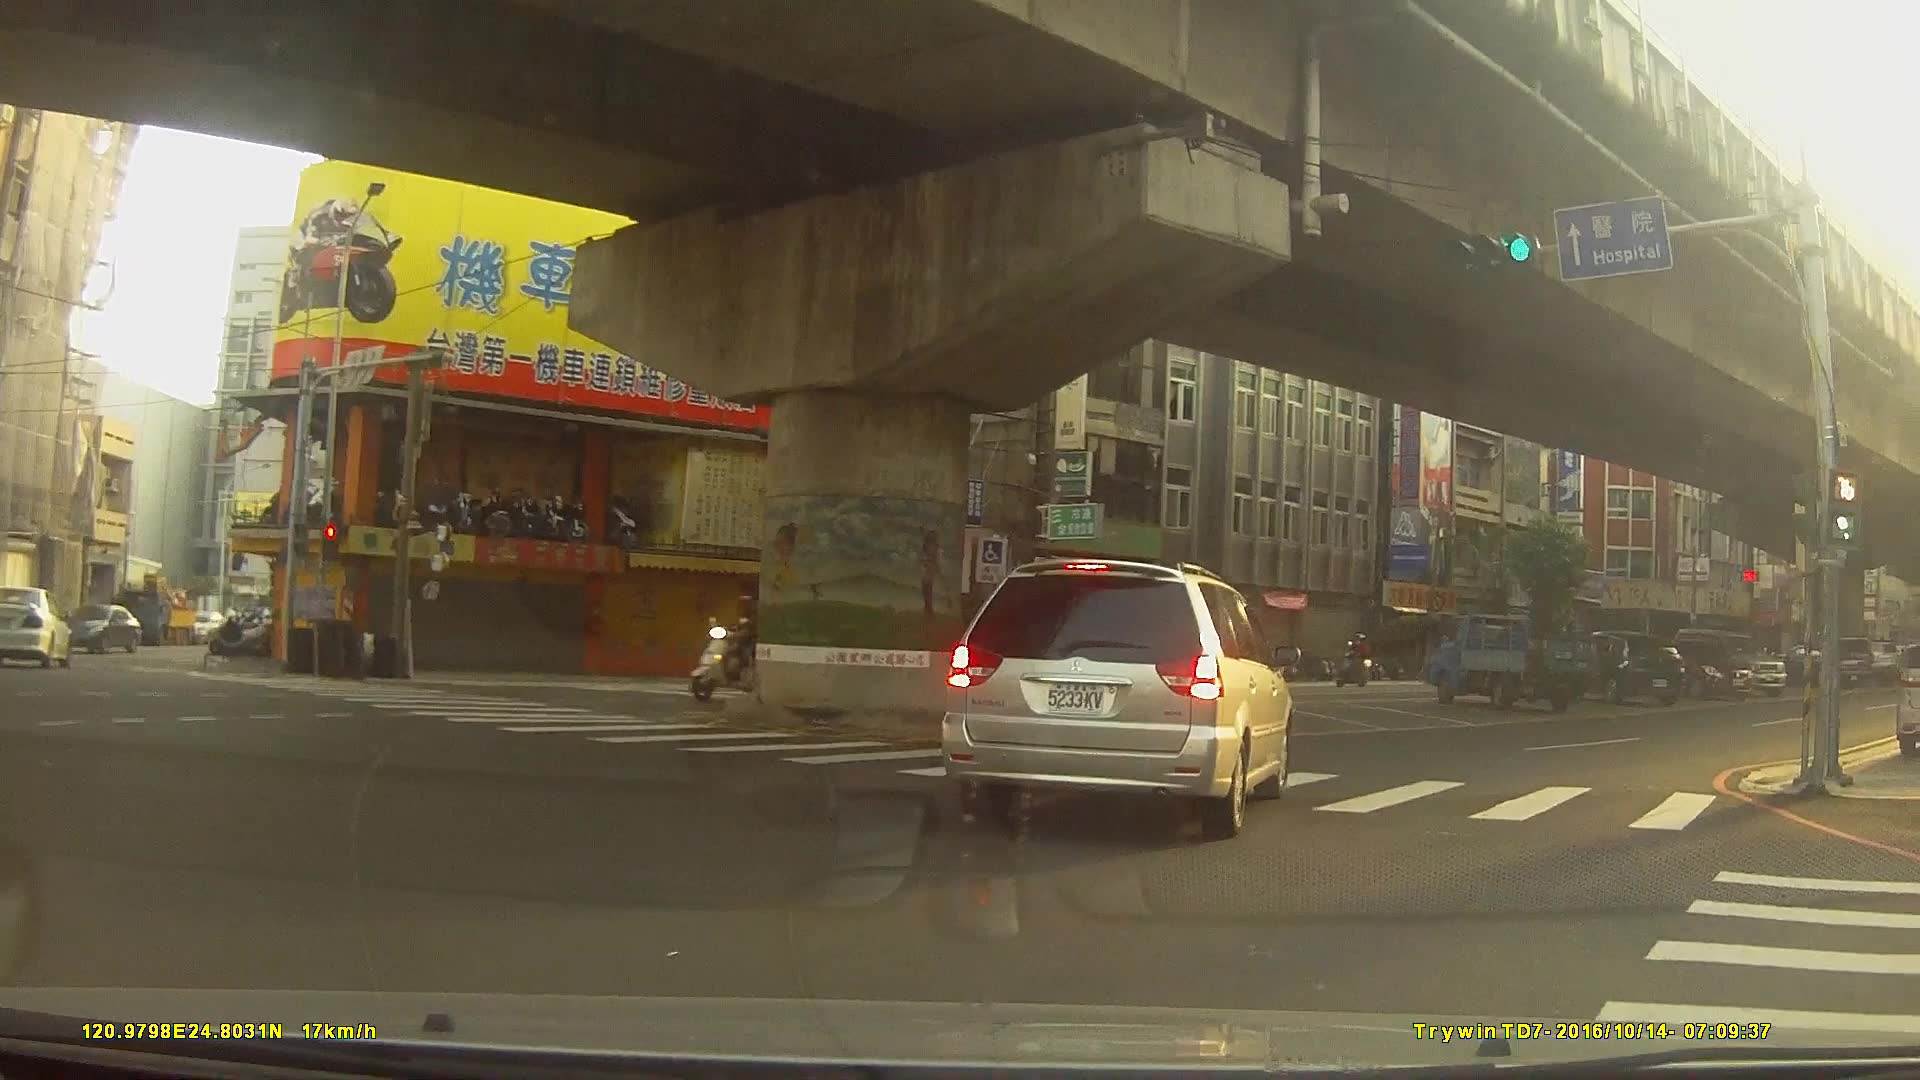rider: (689, 596, 779, 703), (1337, 635, 1374, 688)
vehicle: (936, 558, 1291, 839), (1419, 612, 1593, 713), (1553, 627, 1684, 704), (1647, 637, 1756, 701), (0, 583, 72, 668), (64, 602, 140, 654), (187, 609, 228, 640)
